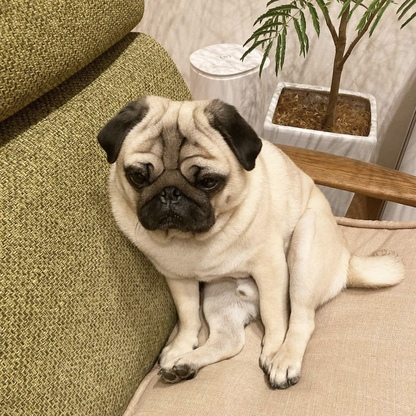Pug: (93, 90, 408, 394)
